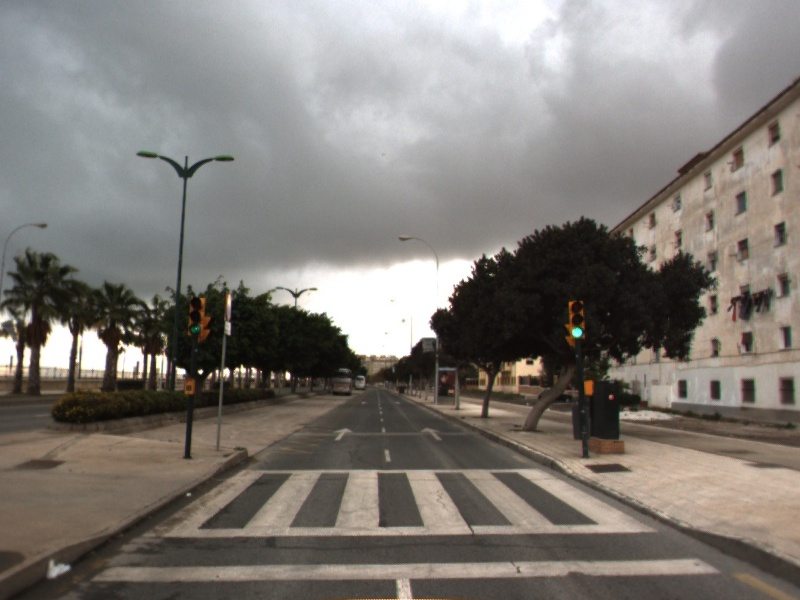STRAIGHT: (419, 425, 445, 442), (331, 425, 355, 443)
